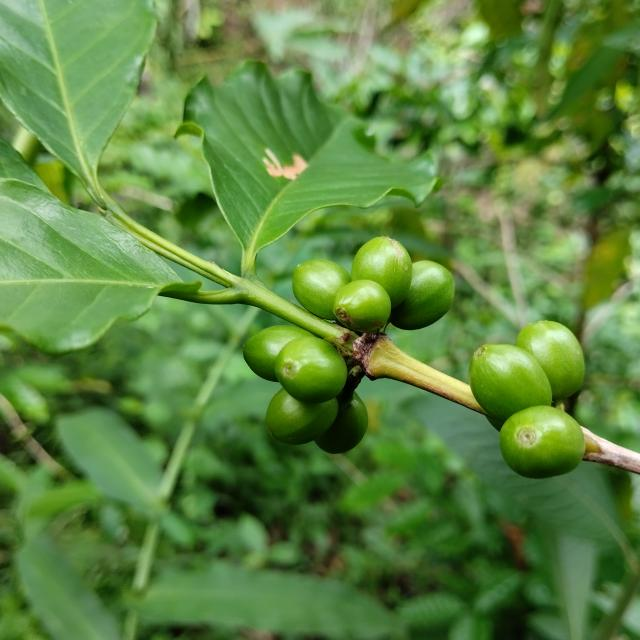green: (469, 345, 553, 422), (500, 406, 587, 479), (517, 321, 586, 401), (274, 336, 348, 404), (390, 260, 455, 330), (351, 236, 412, 308), (266, 389, 339, 445), (243, 325, 314, 382), (292, 259, 351, 320), (315, 391, 368, 454), (333, 279, 392, 333)
